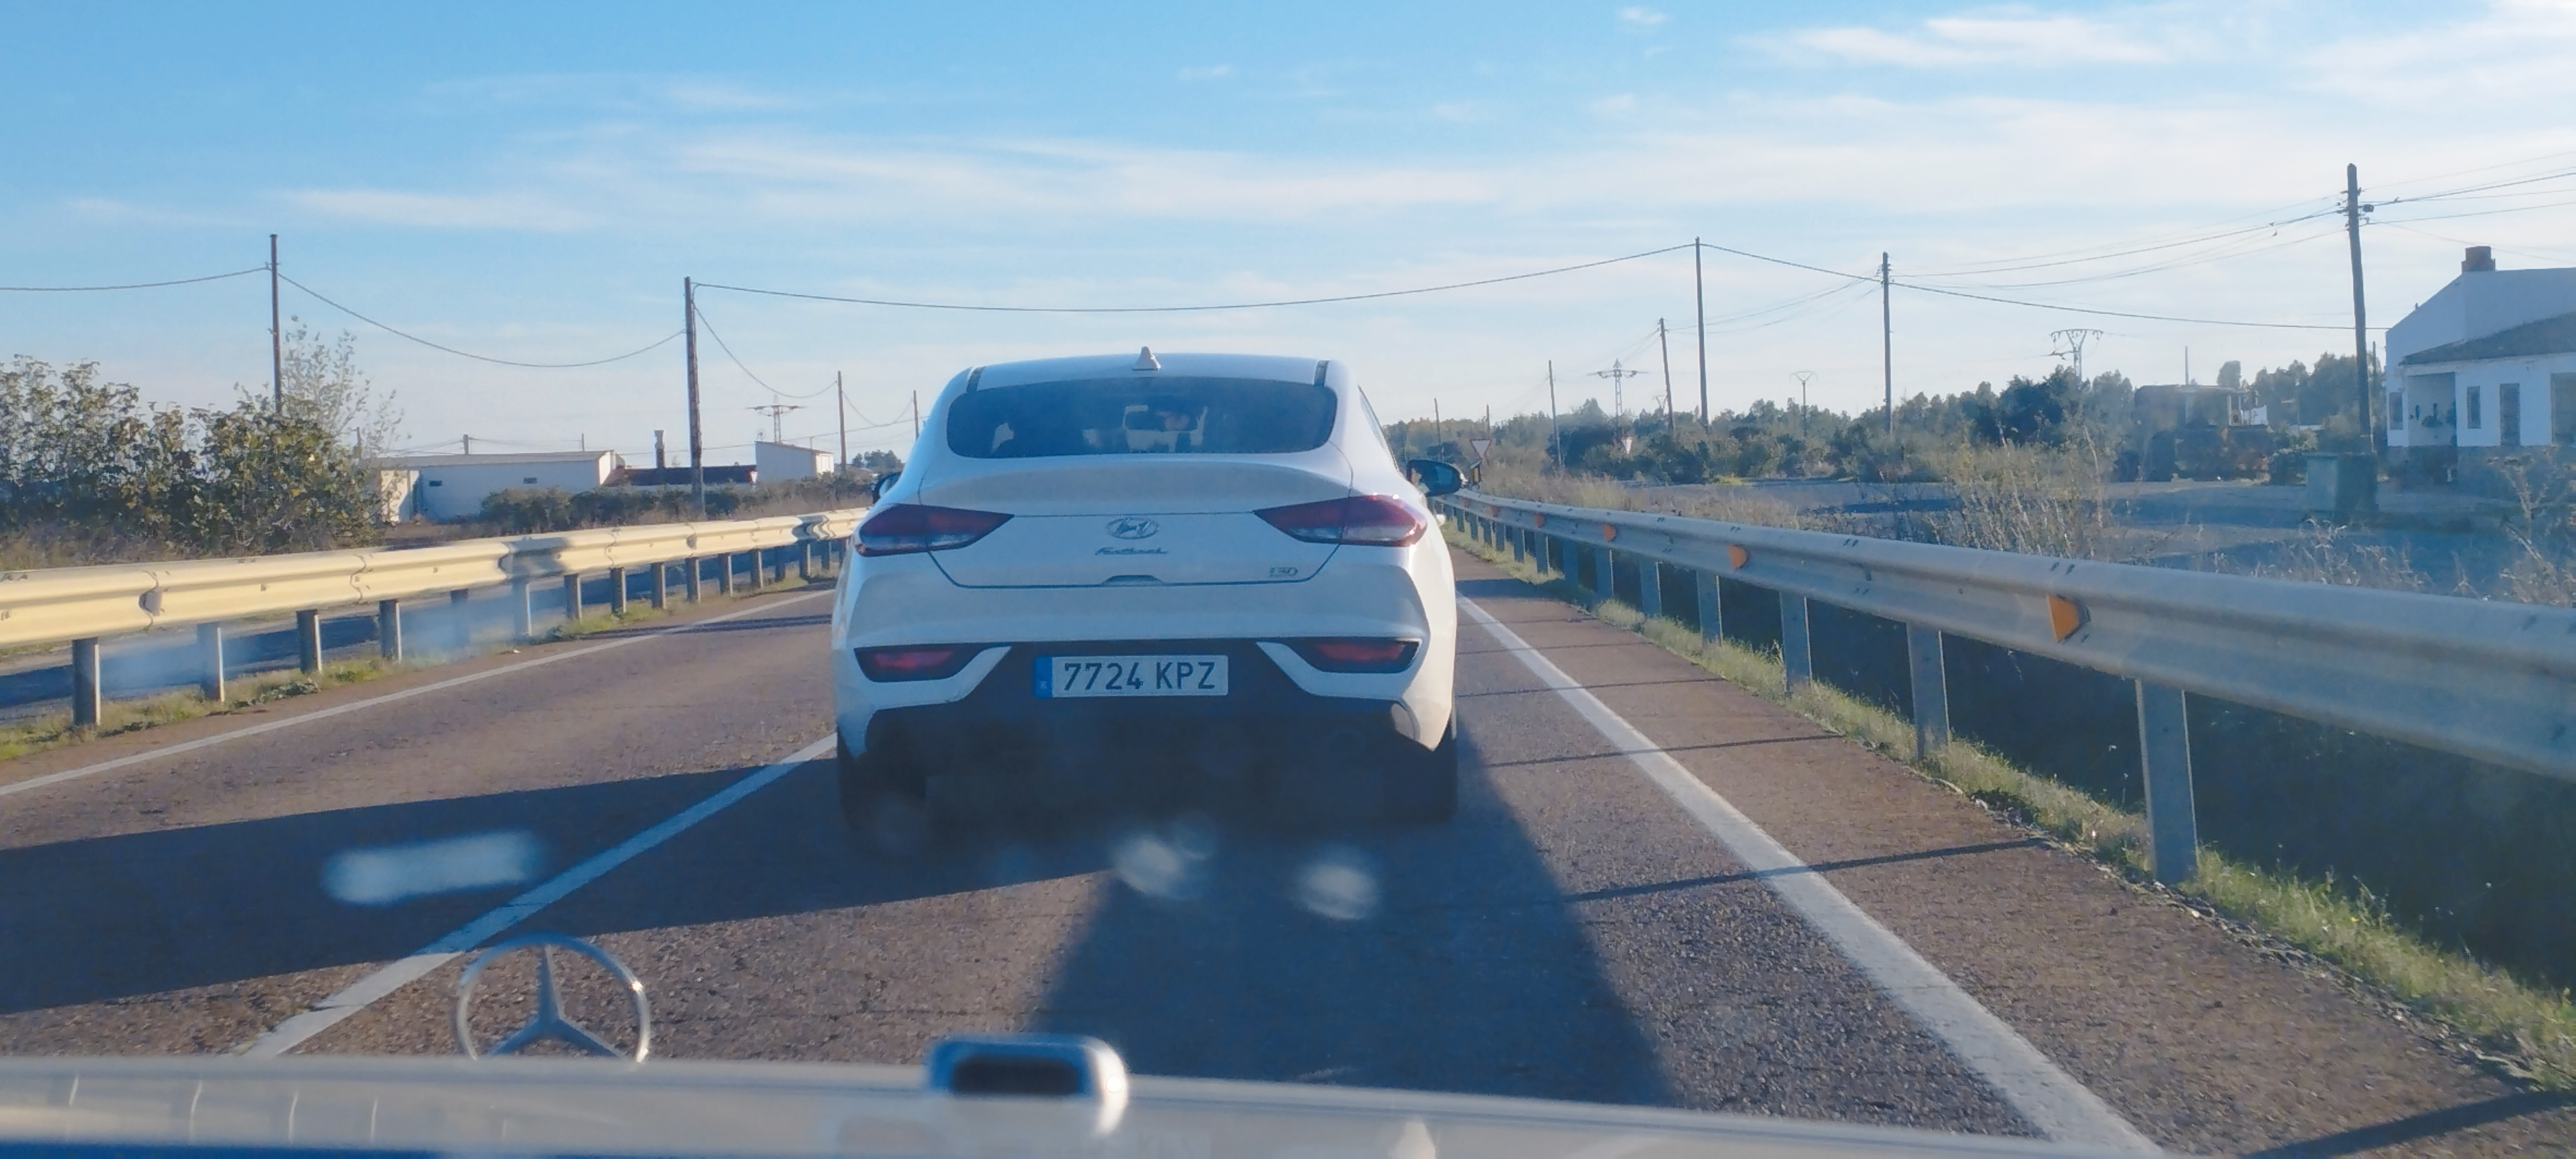Car: (841, 351, 1458, 815)
Plate: (1033, 652, 1228, 697)
